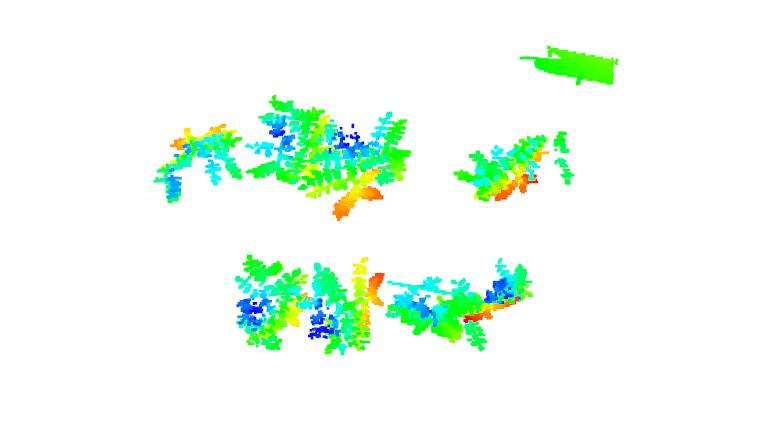chickpea: (452, 127, 577, 206), (331, 110, 417, 223), (306, 255, 393, 360), (252, 87, 336, 193), (230, 247, 306, 359), (153, 120, 246, 205), (465, 257, 537, 351), (389, 279, 472, 350)
